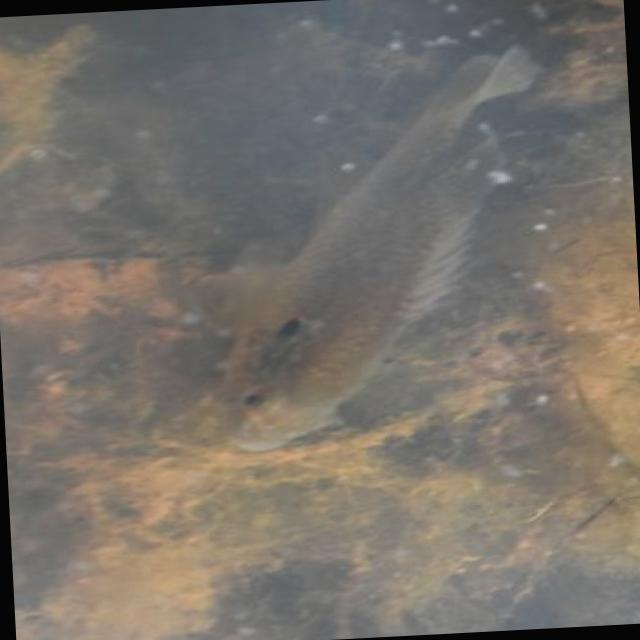Gunes Levregi: (174, 44, 570, 457)
